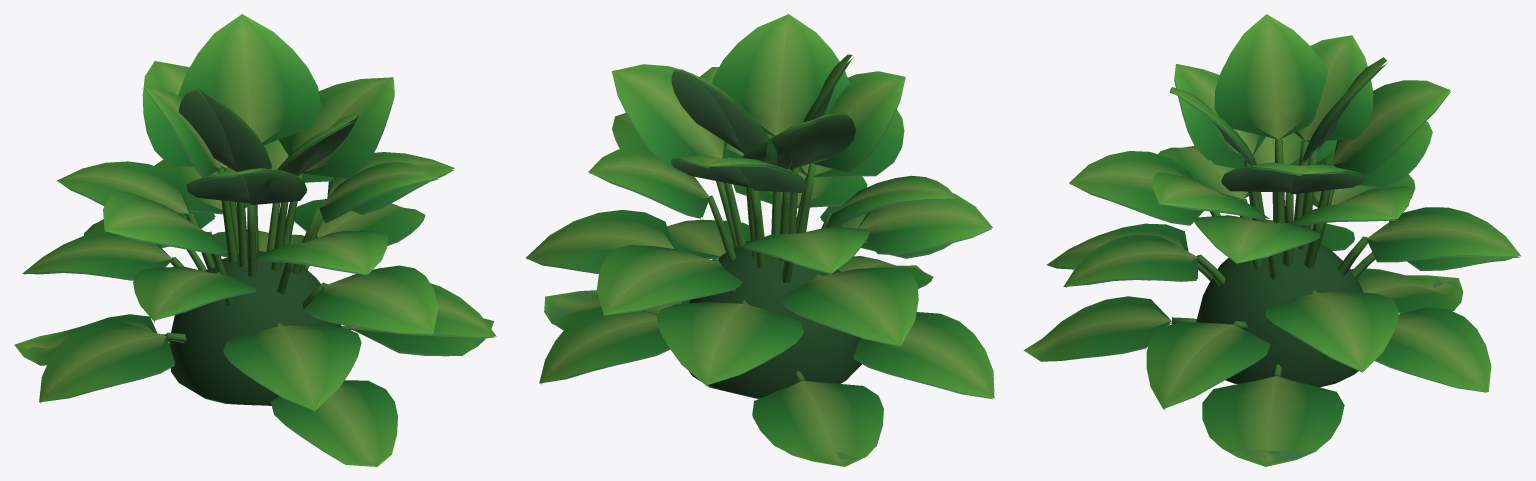
The model's file is bush_a.glb.
3 renders of one model, left to right at view 1: azimuth 30°, elevation 25°; view 2: azimuth 150°, elevation 25°; view 3: azimuth 270°, elevation 25°, orthographic. The views are drawn at different scales.
Parts seen in each view (by area): view 1: bush_a_mesh; view 2: bush_a_mesh; view 3: bush_a_mesh.
Boxes of the visible parts, x1,y1,x2,y2 form: bush_a_mesh: (14, 14, 496, 466); bush_a_mesh: (526, 14, 994, 466); bush_a_mesh: (1023, 14, 1521, 466).
Bounding box in the file's own units: 2.11 × 1.42 × 2.04.
